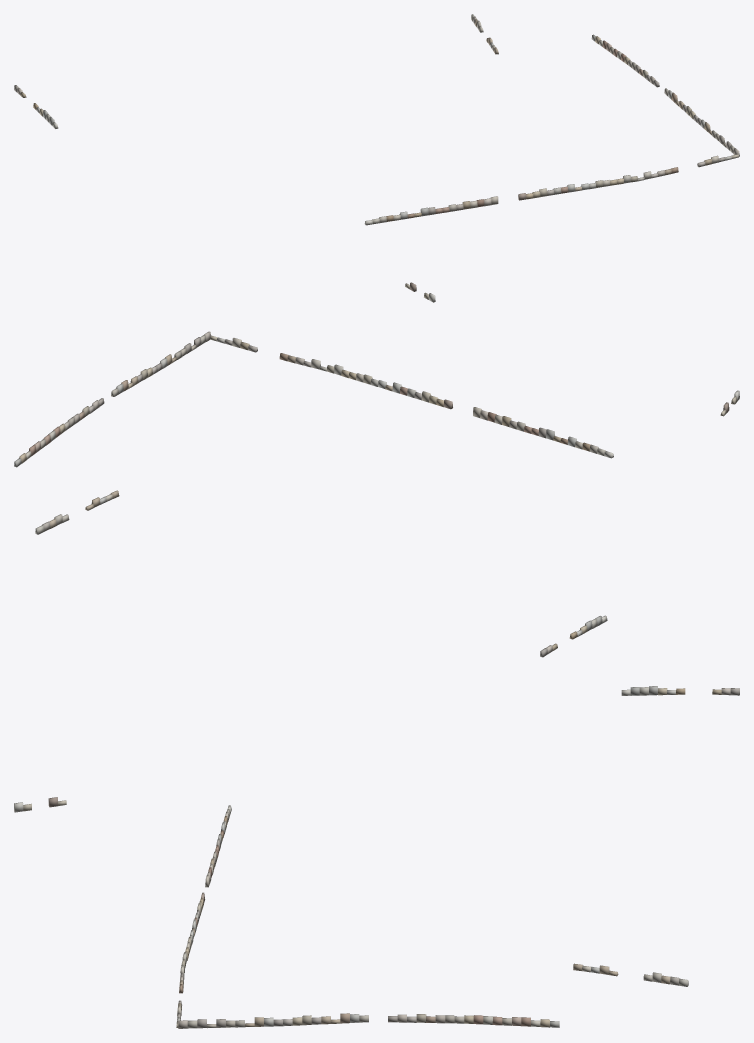
File: farm_-12_-3_collision.glb
3 renders of one model, top to bottom at view 1: azimuth 30°, elevation 25°; view 2: azimuth 150°, elevation 25°; view 3: azimuth 270°, elevation 25°, orthographic. The views are drawn at different scales.
Parts seen in each view (by area): view 1: geometry_0; view 2: geometry_0; view 3: geometry_0.
Part boxes in pixels (x1,y1,x2,y2): geometry_0: (14,14,739,302); geometry_0: (14,331,739,657); geometry_0: (14,686,739,1028).
Bounding box in the file's own units: 122 × 8.18 × 120.
